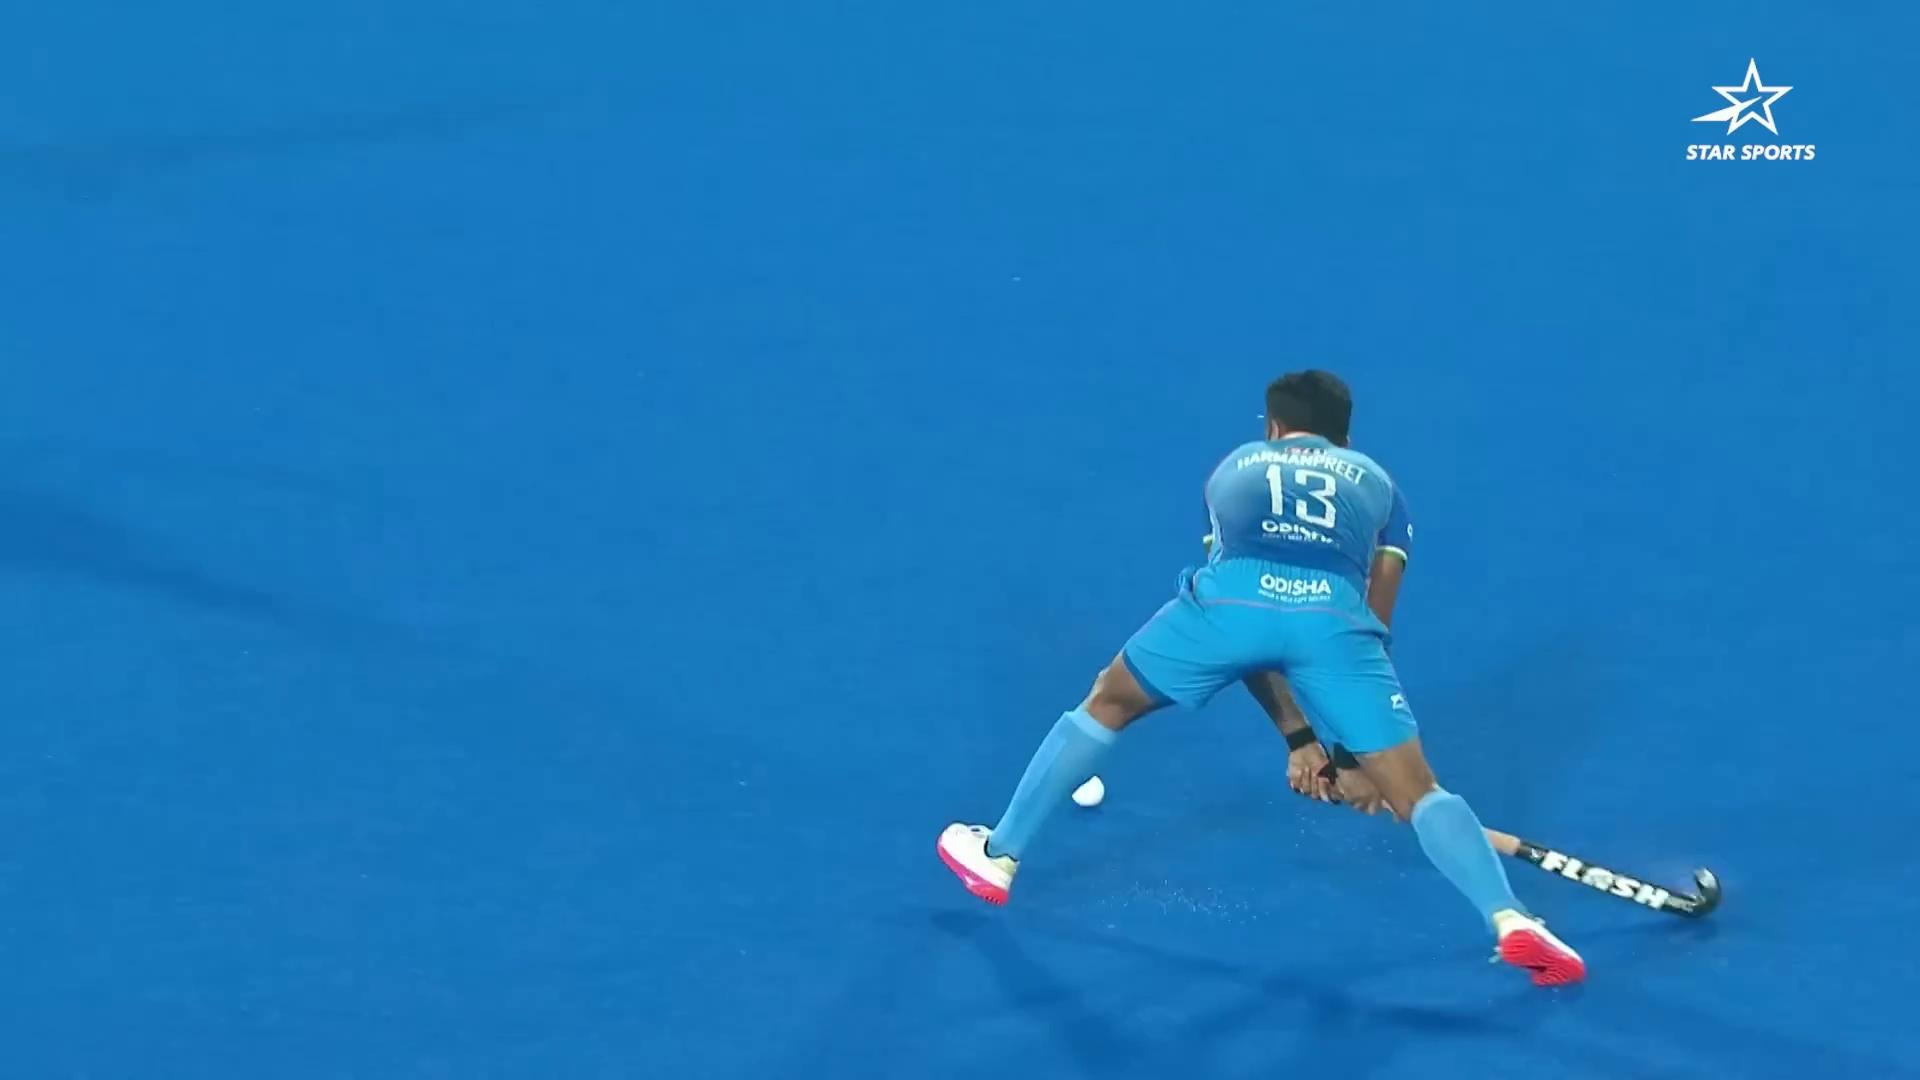ball: (1063, 760, 1120, 819)
